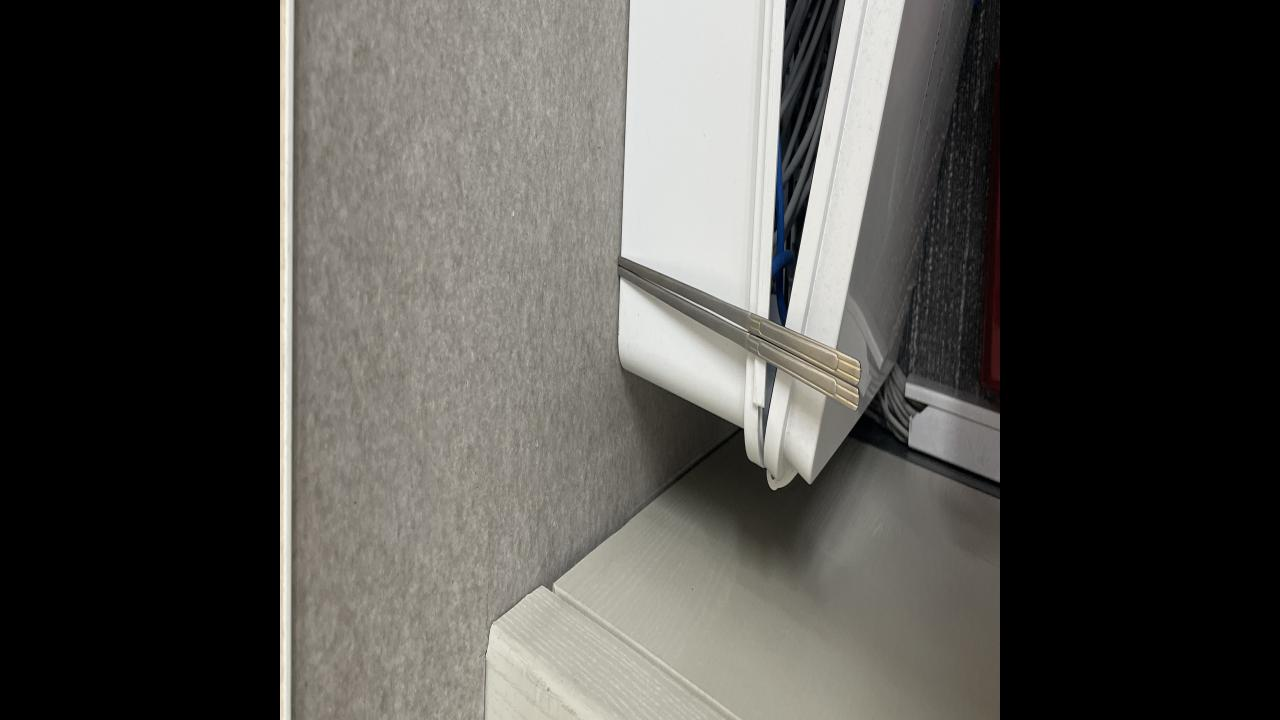chopstick: (616, 253, 860, 415)
